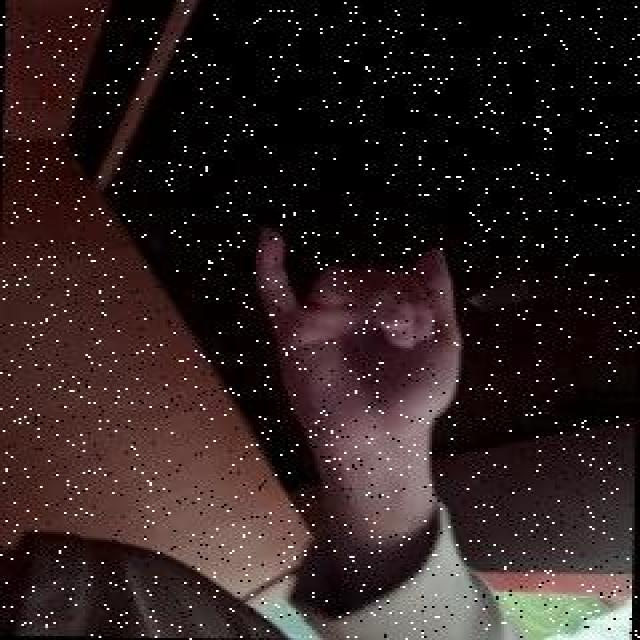I: (245, 221, 472, 459)
